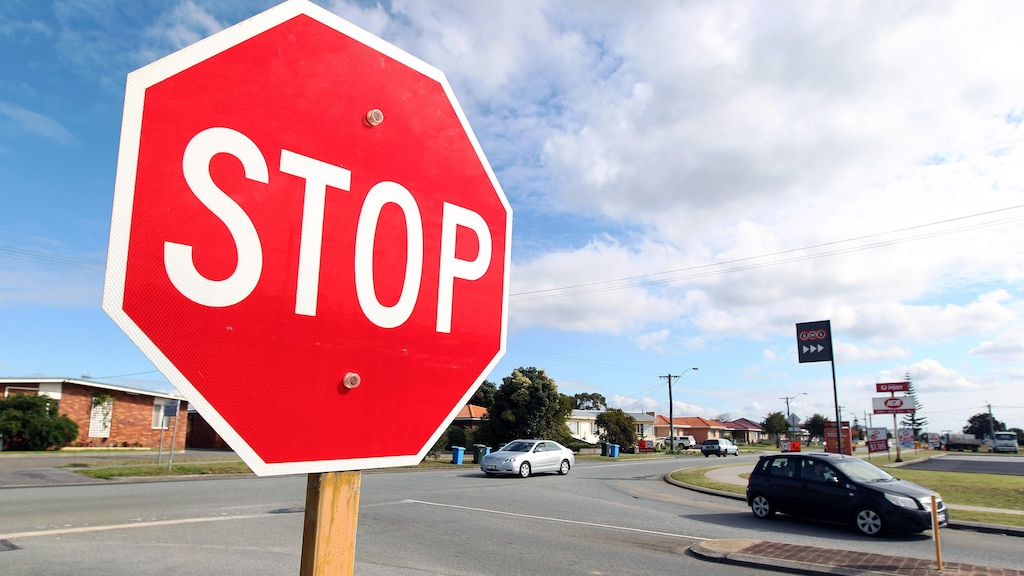stop: (103, 1, 516, 482)
